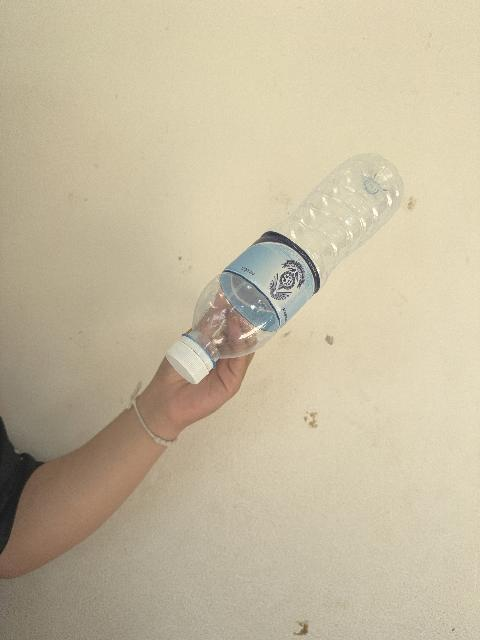bottle: (166, 154, 402, 383)
